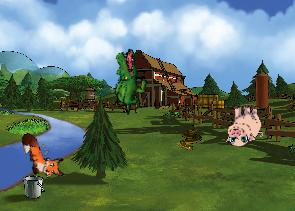crocodile: (99, 46, 157, 115)
fox: (18, 125, 68, 185)
pig: (224, 103, 263, 146)
